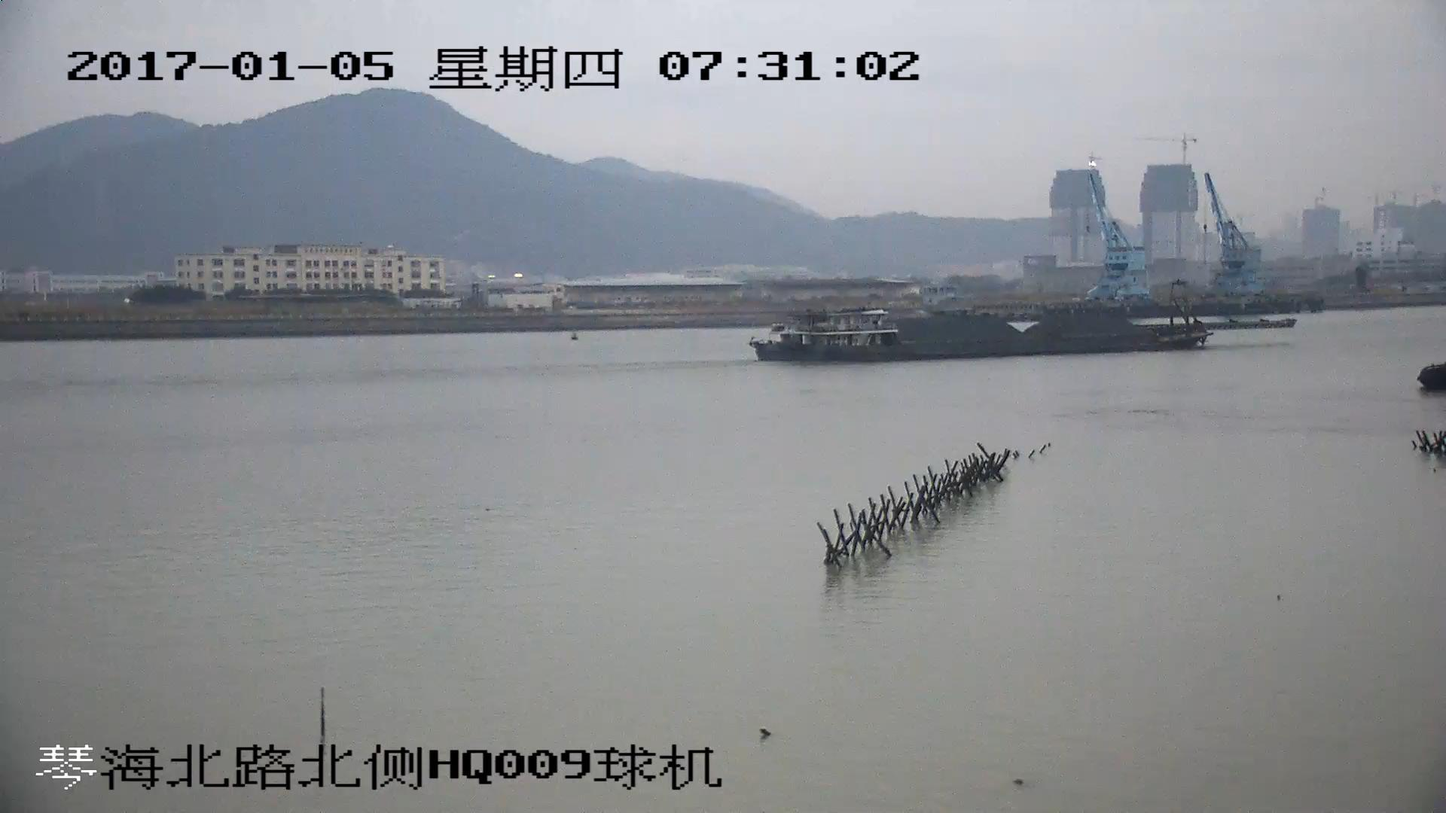ore carrier: (749, 287, 1292, 352)
